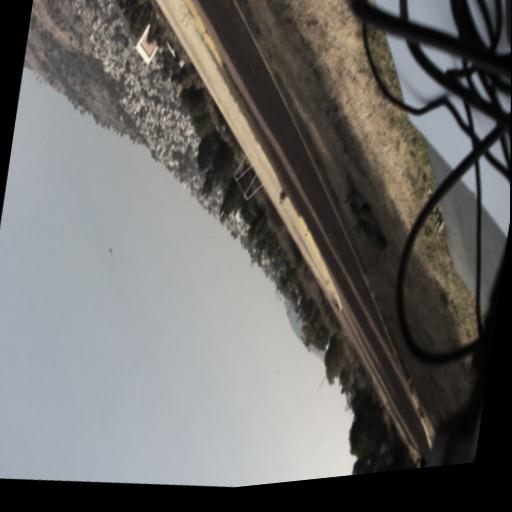drones: (106, 243, 115, 258)
